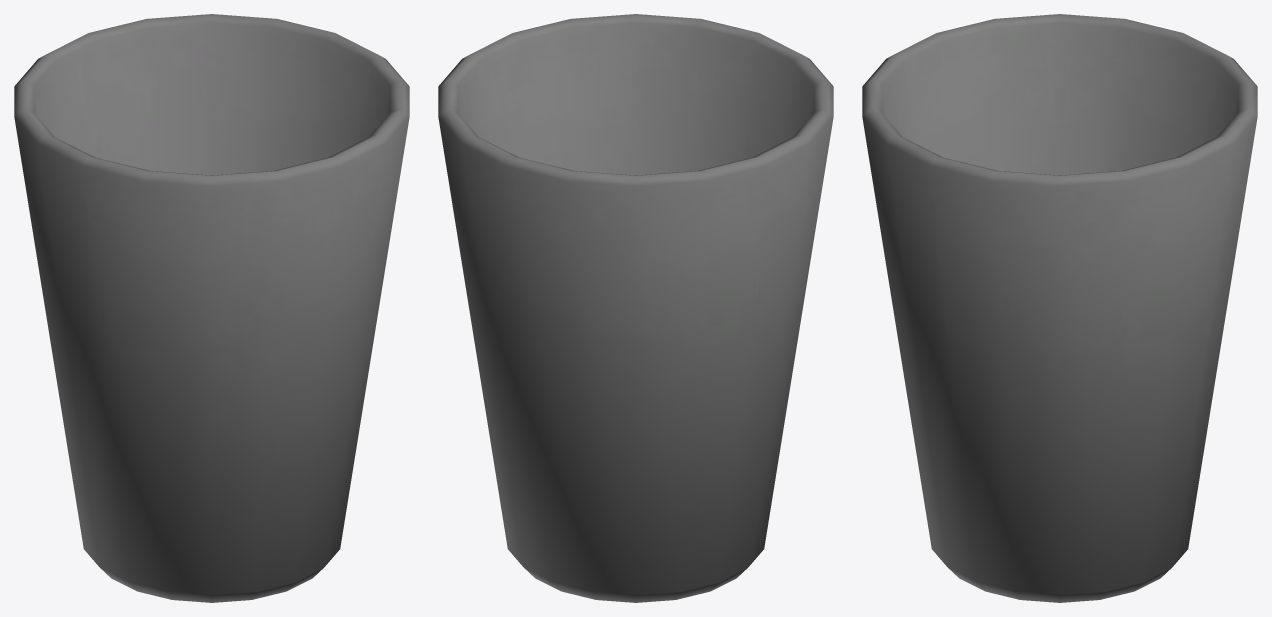
File: glass.dae
3 renders of one model, left to right at view 1: azimuth 30°, elevation 25°; view 2: azimuth 150°, elevation 25°; view 3: azimuth 270°, elevation 25°, orthographic.
Parts seen in each view (by area): view 1: glass; view 2: glass; view 3: glass.
Part boxes in pixels (x1,y1,x2,y2): glass: (14, 14, 409, 602); glass: (438, 14, 833, 602); glass: (862, 14, 1257, 602).
Size of the model in its own units: 11.07 by 13.95 by 10.9.
